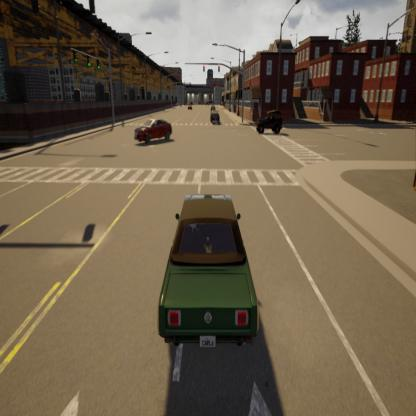Cars: (156, 192, 259, 353), (135, 117, 173, 145), (256, 111, 282, 133), (210, 108, 221, 127), (186, 105, 194, 108)
